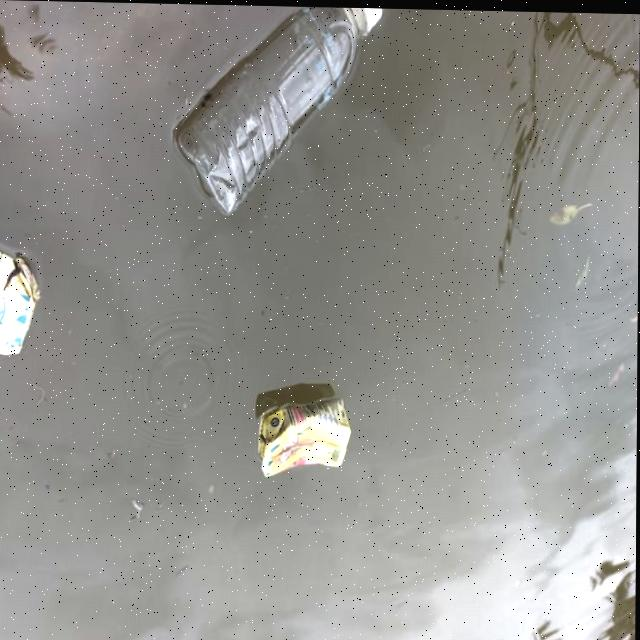paper: (248, 378, 366, 483), (0, 227, 44, 367)
waterbottle: (157, 3, 437, 212)
